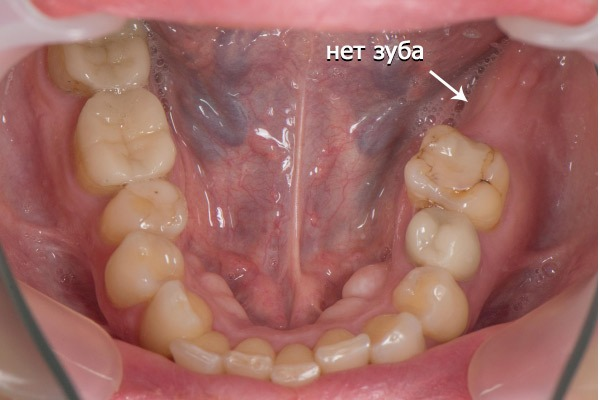LL1BC_healthy: (397, 266, 468, 338), (409, 208, 483, 274)
LL2BC_decay: (408, 123, 506, 224)
LLCI_healthy: (273, 344, 319, 381)
LLC_healthy: (372, 311, 426, 362)
LLLI_healthy: (312, 327, 373, 370)
LR1BC_healthy: (108, 235, 186, 296)
LR1M_healthy: (80, 89, 176, 179)
LR2BC_healthy: (102, 182, 189, 233)
LRCI_healthy: (225, 334, 273, 378)
LRC_healthy: (144, 285, 208, 344)
LRLI_healthy: (176, 329, 225, 378)
